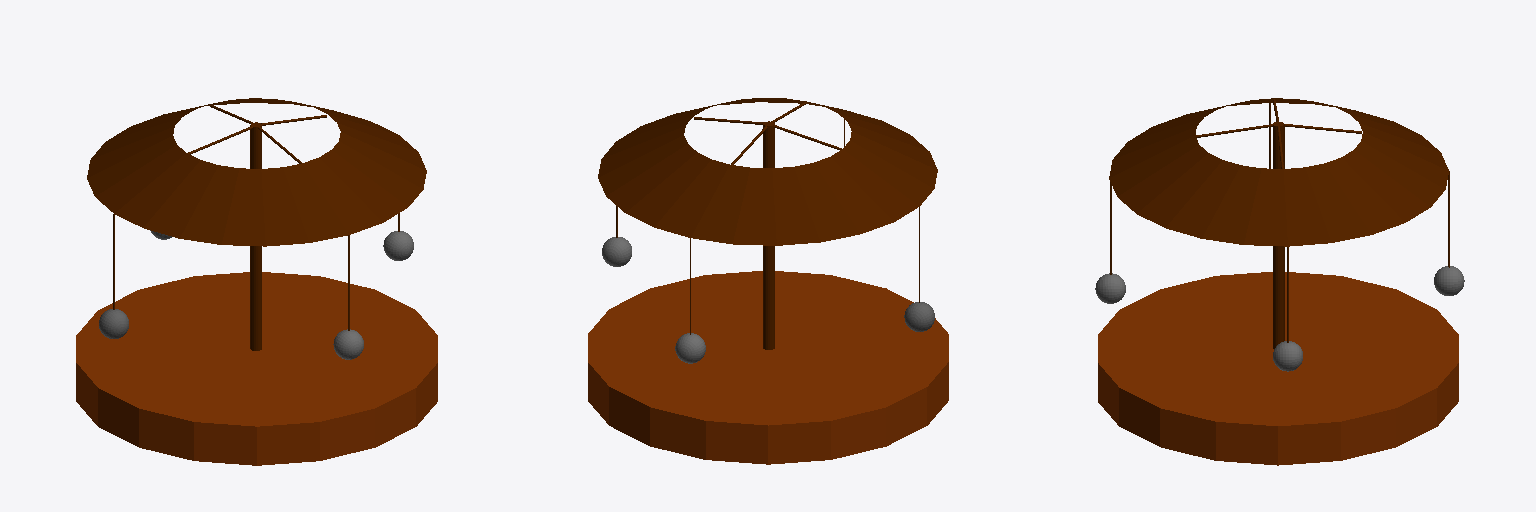
Rendered from musicbox.obj.
The picture shows the model from 3 angles: view 1: azimuth 30°, elevation 25°; view 2: azimuth 150°, elevation 25°; view 3: azimuth 270°, elevation 25°; orthographic projection.
Visible parts, largest first — view 1: Cylinder001, Cone001, central_column, Sphere001, Sphere004, Sphere002; view 2: Cylinder001, Cone001, central_column, Sphere003, Sphere002, Sphere001; view 3: Cylinder001, Cone001, central_column, Sphere004, Sphere001, Sphere003.
Boxes of the visible parts, x1,y1,x2,y2 form: Cylinder001: [76, 272, 437, 465]; Cone001: [87, 98, 426, 246]; central_column: [250, 122, 261, 350]; Sphere001: [383, 231, 413, 260]; Sphere004: [333, 329, 363, 359]; Sphere002: [99, 309, 128, 338]; Cylinder001: [588, 271, 948, 464]; Cone001: [598, 98, 937, 245]; central_column: [763, 121, 774, 349]; Sphere003: [675, 333, 705, 363]; Sphere002: [904, 302, 934, 331]; Sphere001: [602, 237, 631, 266]; Cylinder001: [1098, 272, 1458, 465]; Cone001: [1109, 98, 1448, 246]; central_column: [1273, 122, 1284, 348]; Sphere004: [1095, 273, 1125, 303]; Sphere001: [1273, 341, 1302, 371]; Sphere003: [1434, 266, 1464, 295].
Bounding box in the file's own units: 28.6 × 22.49 × 28.55.